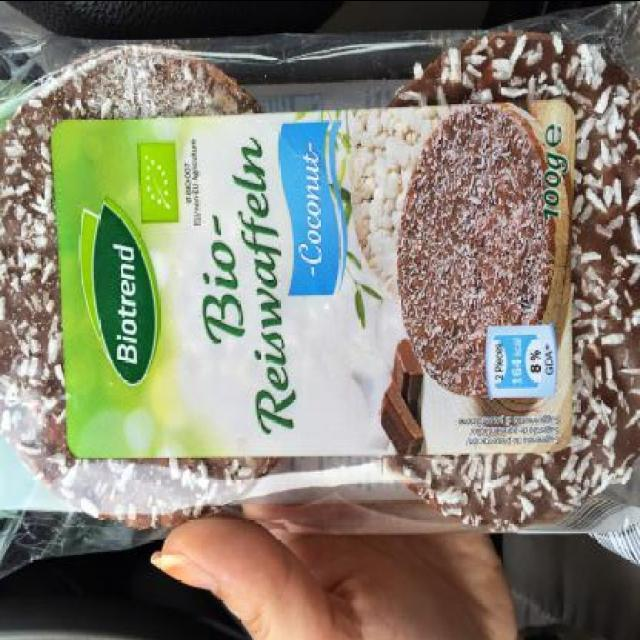Gallette di riso: (1, 1, 638, 576)
